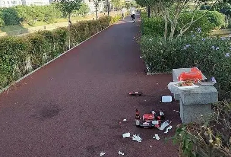garbage: (142, 108, 174, 135), (172, 68, 210, 88), (117, 130, 145, 144), (130, 108, 147, 129), (157, 95, 177, 104), (112, 149, 130, 157), (126, 90, 146, 97), (149, 132, 163, 142), (97, 150, 108, 157), (122, 117, 130, 123)
